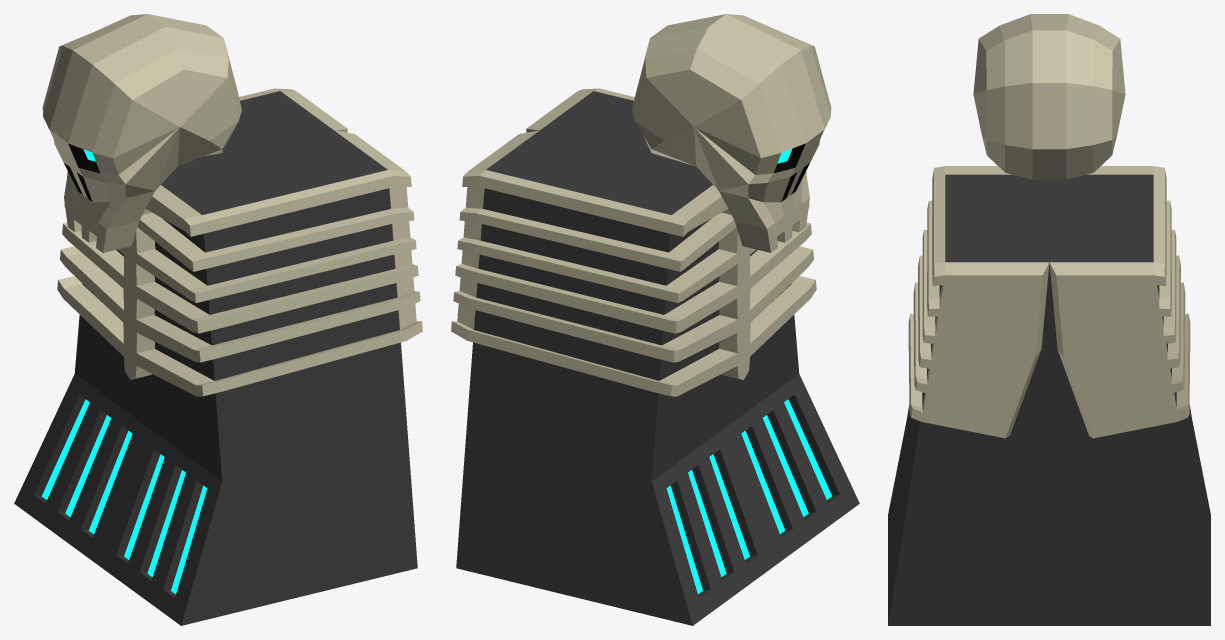
Rendered from SkeletonWall.fbx.
3 views of the same model, side by side, from view 1: azimuth 30°, elevation 25°; view 2: azimuth 150°, elevation 25°; view 3: azimuth 270°, elevation 25° (orthographic). The views are drawn at different scales.
Visible parts, largest first — view 1: Cube, Cube.001; view 2: Cube, Cube.001; view 3: Cube, Cube.001.
Boxes of the visible parts, box(x1,y1,x2,y2) form: Cube: box(14, 88, 422, 625); Cube.001: box(42, 14, 241, 252); Cube: box(451, 88, 859, 625); Cube.001: box(632, 14, 831, 252); Cube: box(888, 166, 1210, 625); Cube.001: box(973, 14, 1125, 179).
Bounding box in the file's own units: 62.88 × 109 × 62.2.
